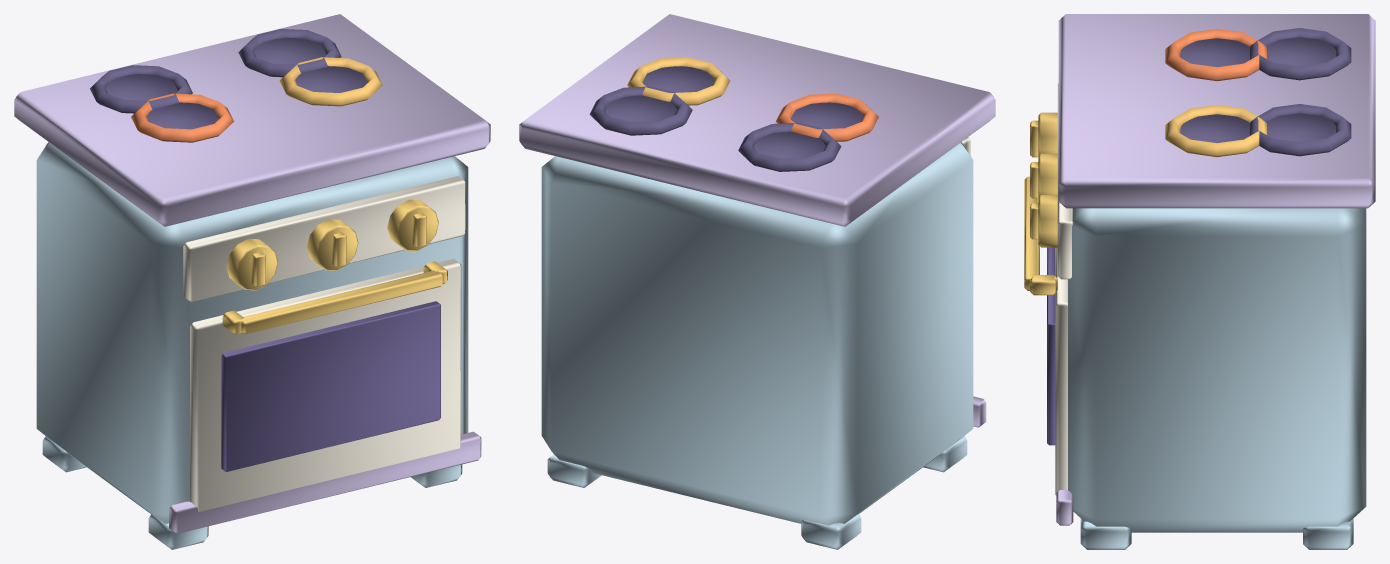
Rendered from kitchen_stove.glb.
The picture shows the model from 3 angles, left to right: view 1: azimuth 30°, elevation 25°; view 2: azimuth 150°, elevation 25°; view 3: azimuth 270°, elevation 25°; orthographic projection. The views are drawn at different scales.
Parts seen in each view (by area): view 1: StoveBody, StoveTrim, StoveCream, StoveGlass, StoveMetal, StoveBurnerDark, StoveBurnerHot, StoveBurnerWarm; view 2: StoveBody, StoveTrim, StoveBurnerDark, StoveBurnerHot, StoveBurnerWarm; view 3: StoveBody, StoveTrim, StoveBurnerDark, StoveMetal, StoveCream, StoveBurnerHot, StoveBurnerWarm, StoveGlass.
Part boxes in pixels (bbox=[...]): StoveBody: bbox=[36, 142, 468, 549]; StoveTrim: bbox=[14, 14, 490, 533]; StoveCream: bbox=[183, 176, 465, 511]; StoveGlass: bbox=[221, 301, 440, 471]; StoveMetal: bbox=[222, 199, 447, 334]; StoveBurnerDark: bbox=[90, 29, 367, 129]; StoveBurnerHot: bbox=[131, 93, 233, 142]; StoveBurnerWarm: bbox=[279, 57, 382, 106]; StoveBody: bbox=[541, 142, 973, 549]; StoveTrim: bbox=[519, 14, 995, 427]; StoveBurnerDark: bbox=[589, 66, 863, 171]; StoveBurnerHot: bbox=[776, 93, 878, 141]; StoveBurnerWarm: bbox=[627, 57, 730, 105]; StoveBody: bbox=[1068, 208, 1366, 549]; StoveTrim: bbox=[1056, 14, 1375, 525]; StoveBurnerDark: bbox=[1180, 28, 1351, 156]; StoveMetal: bbox=[1024, 112, 1057, 295]; StoveCream: bbox=[1055, 83, 1073, 495]; StoveBurnerHot: bbox=[1165, 29, 1266, 81]; StoveBurnerWarm: bbox=[1165, 105, 1266, 157]; StoveGlass: bbox=[1047, 247, 1055, 445].
Bounding box in the file's own units: 3.8 × 4.1 × 3.33.
